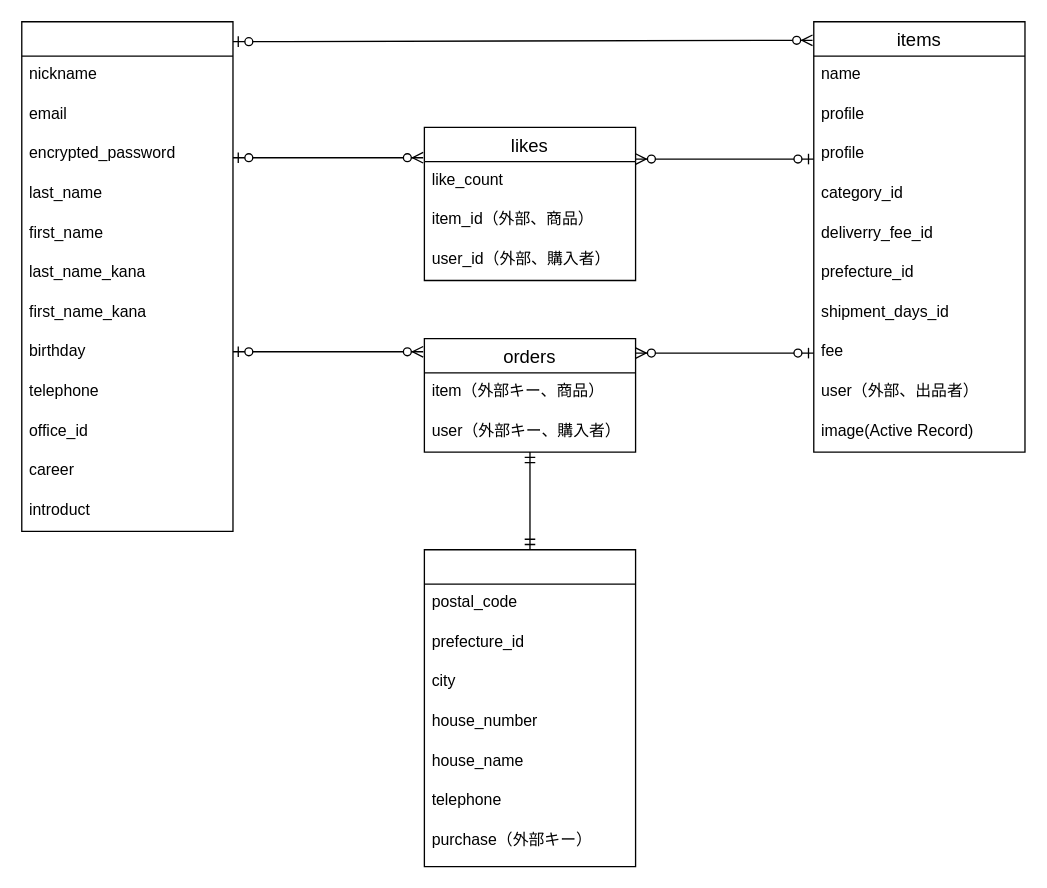
The diagram is 1047 pixels wide and 888 high, and some of its shapes have lost their labels. Here are the shapes that lost their labels. From the top down, the box of each, then its label:
(20, 20, 233, 531): users
(423, 548, 636, 867): addresses
